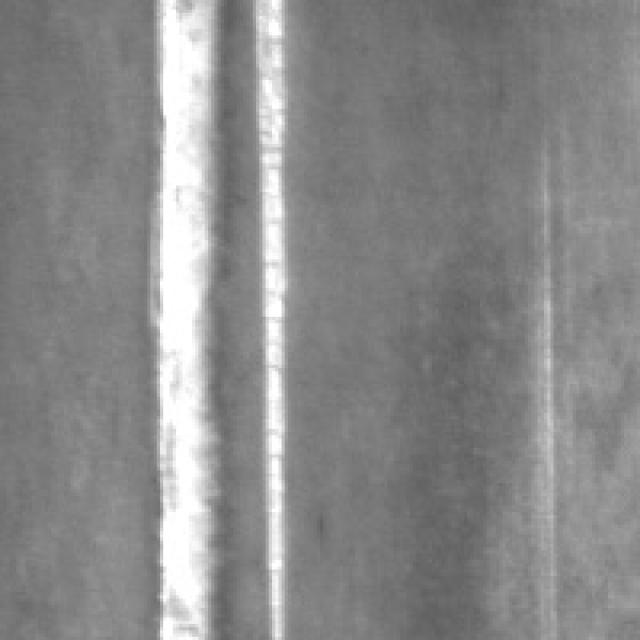scratches: (150, 0, 230, 634), (252, 0, 298, 634), (534, 124, 566, 634)
